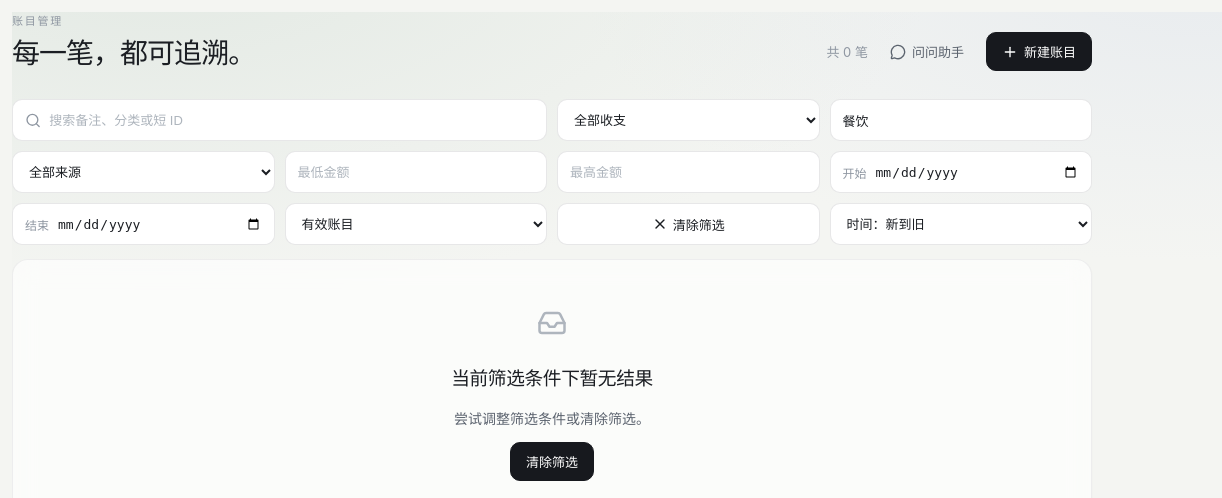
Test: EntriesPage state semantics › distinguishes filtered empty from a first-use empty list
This screenshot has width=1222, height=498.
Expected: the heading "当前筛选条件下暂无结果" is shown, x1=451 y1=367 x2=653 y2=390
Click the button "清除筛选" in the row of "结束" at coordinates (688, 224), box x1=557 y1=203 x2=820 y2=245
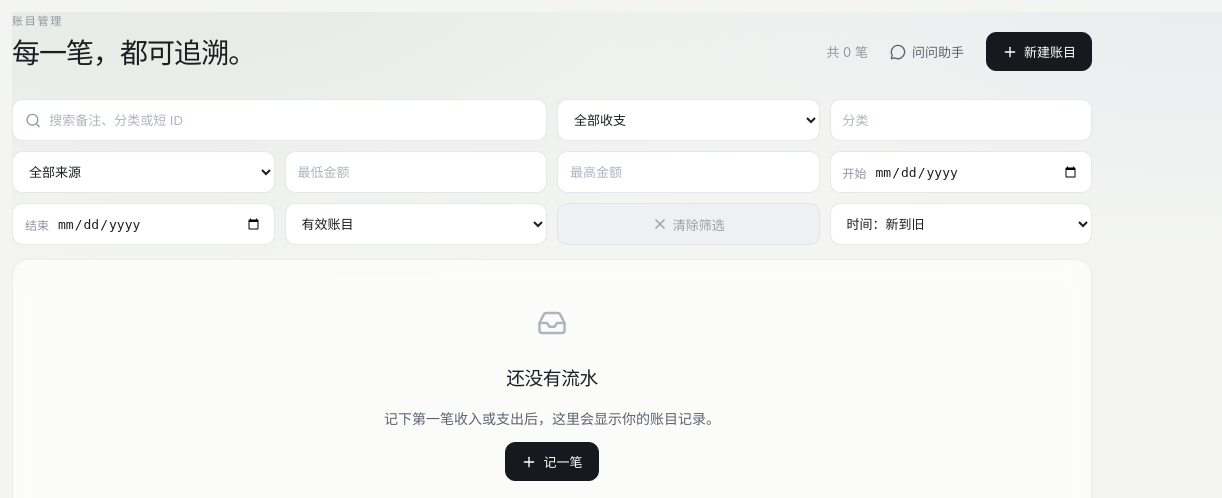
Expected: the heading "还没有流水" is shown, x1=506 y1=367 x2=598 y2=390
